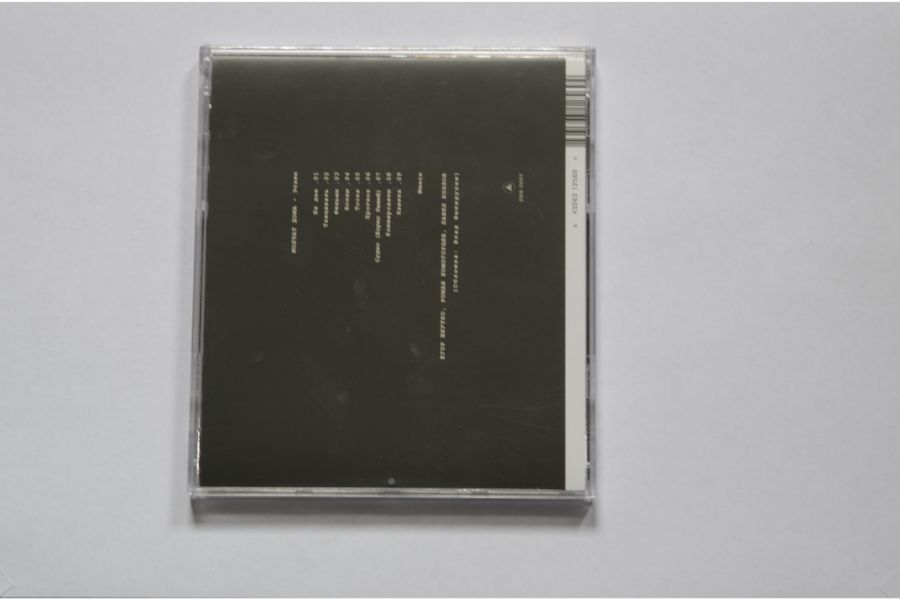album: (182, 42, 596, 502)
